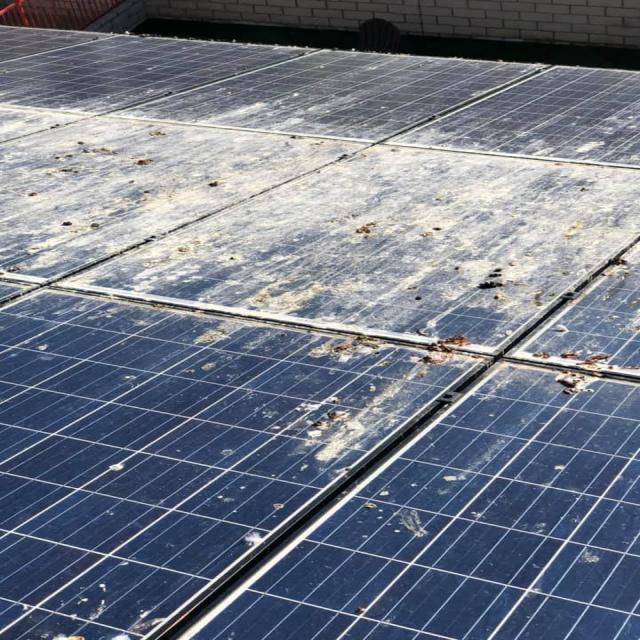dust-solar-panel: (0, 20, 640, 583)
